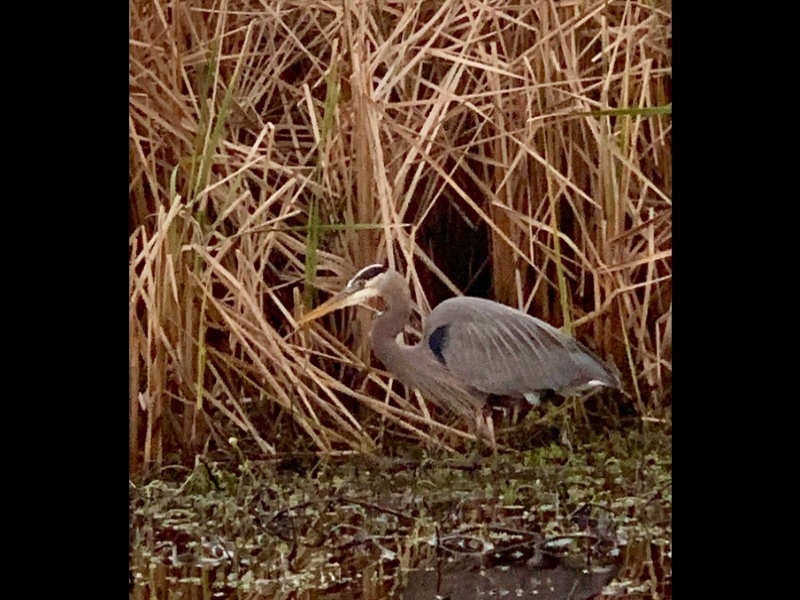heron: (286, 263, 624, 466)
